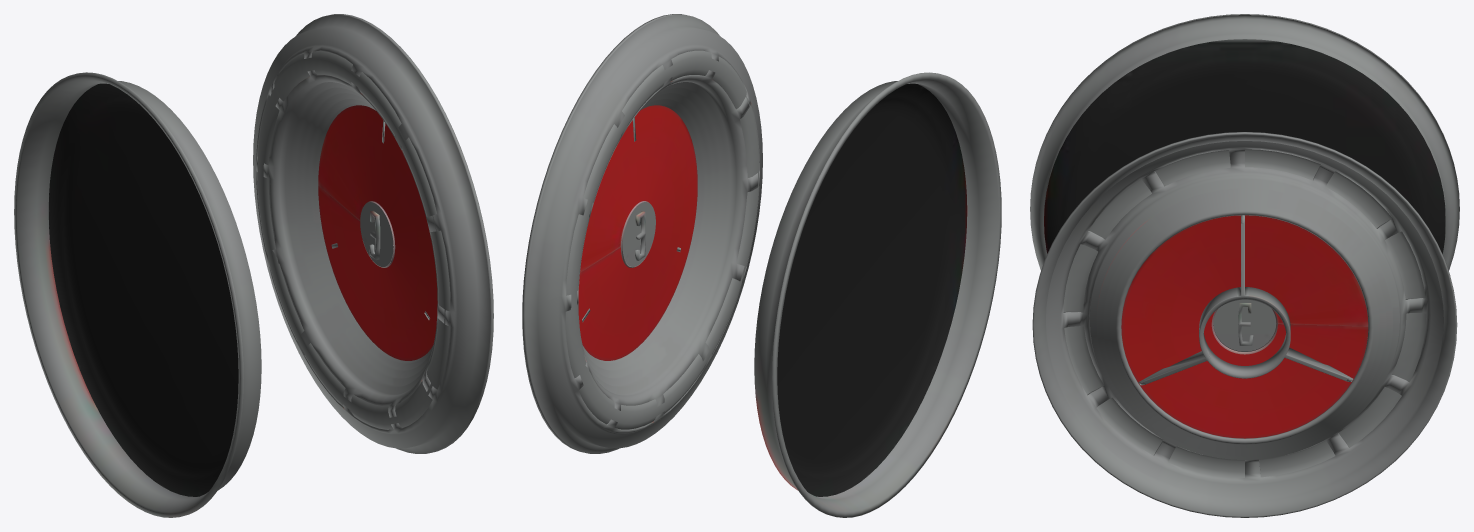
3 renders of one model, left to right at view 1: azimuth 30°, elevation 25°; view 2: azimuth 150°, elevation 25°; view 3: azimuth 270°, elevation 25°, orthographic. The views are drawn at different scales.
Visible parts, largest first — view 1: Edge; view 2: Edge; view 3: Edge.
Part boxes in pixels (x1,y1,x2,y2): Edge: (14, 14, 493, 517); Edge: (522, 14, 1001, 517); Edge: (1030, 14, 1459, 517).
Bounding box in the file's own units: 0.8516 × 1.2 × 1.2.
Materials: 1 (1 with a texture image).
